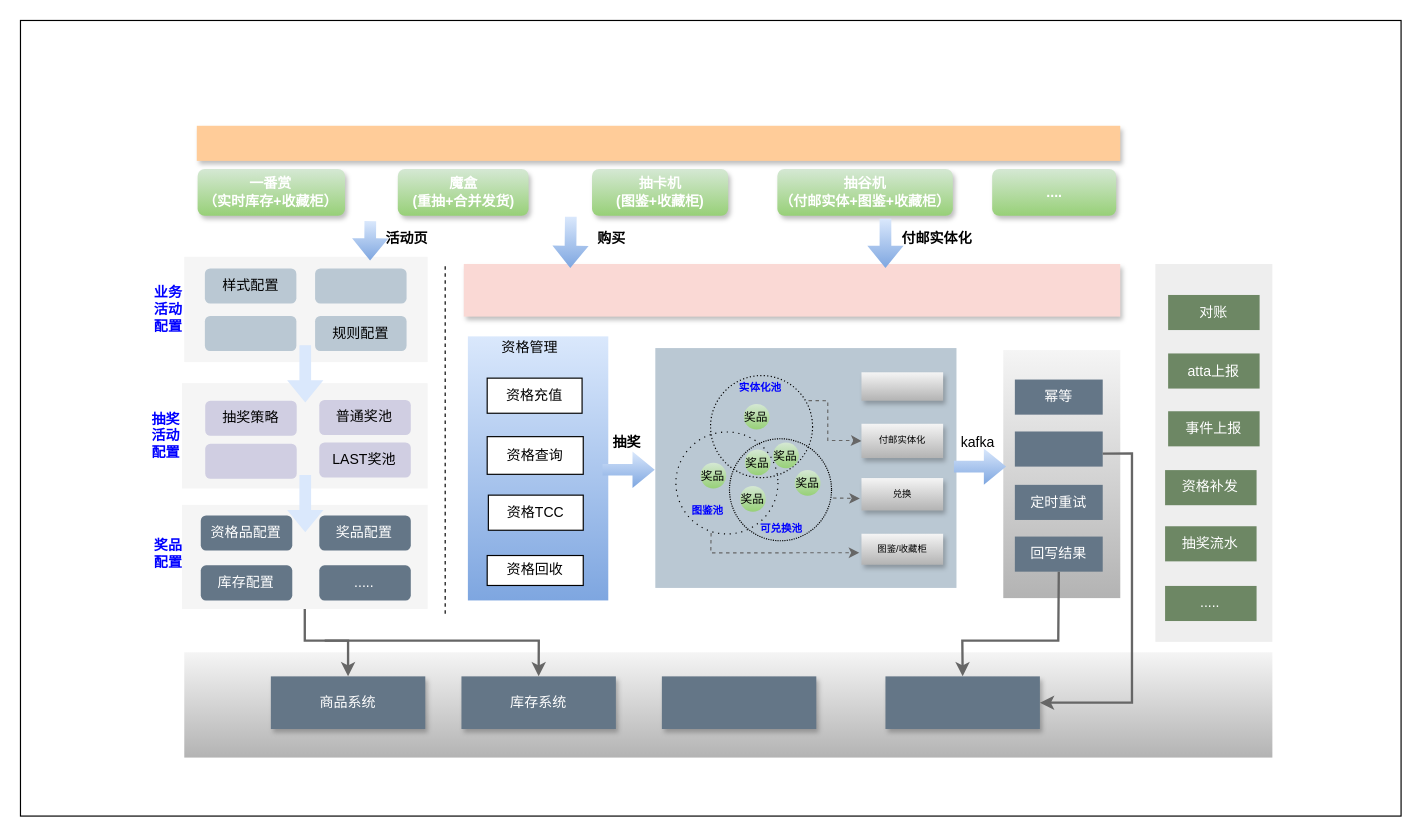
The diagram is 1422 pixels wide and 837 high, and some of its shapes have lost their labels. The shapes that lost their labels are listed below. From the top down, each one's centre as x and y in pixels, then its label:
the point at 659,144: 飞流&神州一站式配置
the point at 360,285: 玩法配置
the point at 793,291: 交易系统
the point at 250,332: 活动配置
the point at 903,387: 合并发货
the point at 250,460: DC奖池
the point at 1058,448: 发货
the point at 740,704: 营销(买赠)活动
the point at 963,704: 订单系统
